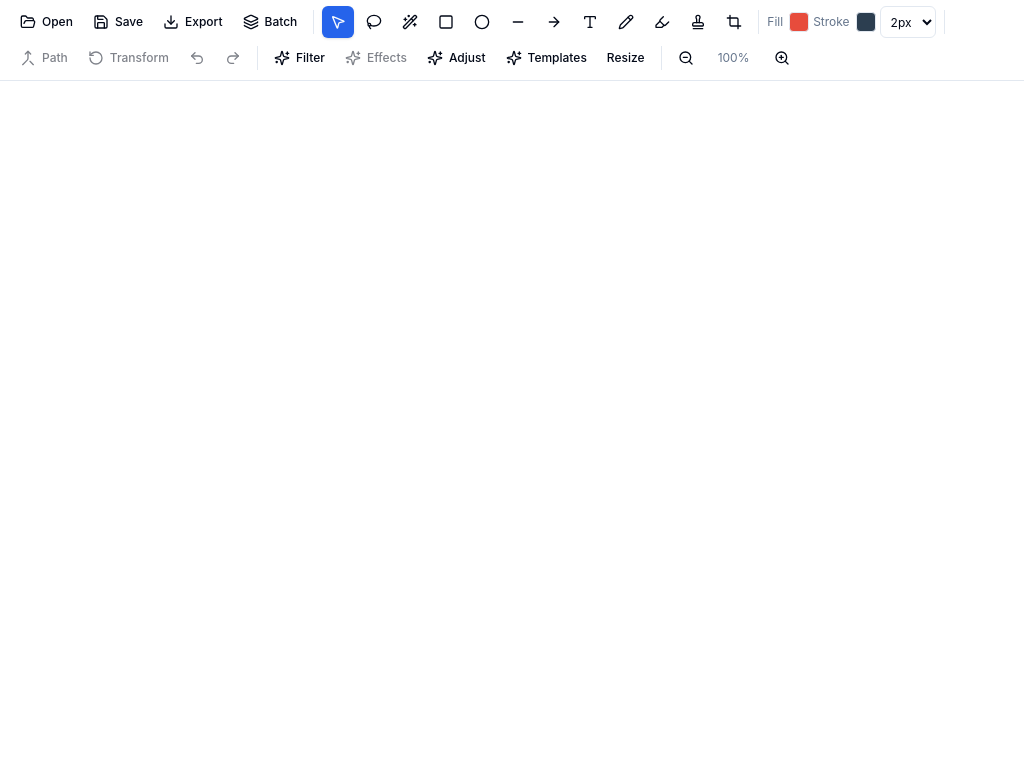
Test: Export dialog › can switch format and cancel closes dialog
Click the button "Export" at (193, 22), box x1=155 y1=6 x2=230 y2=38
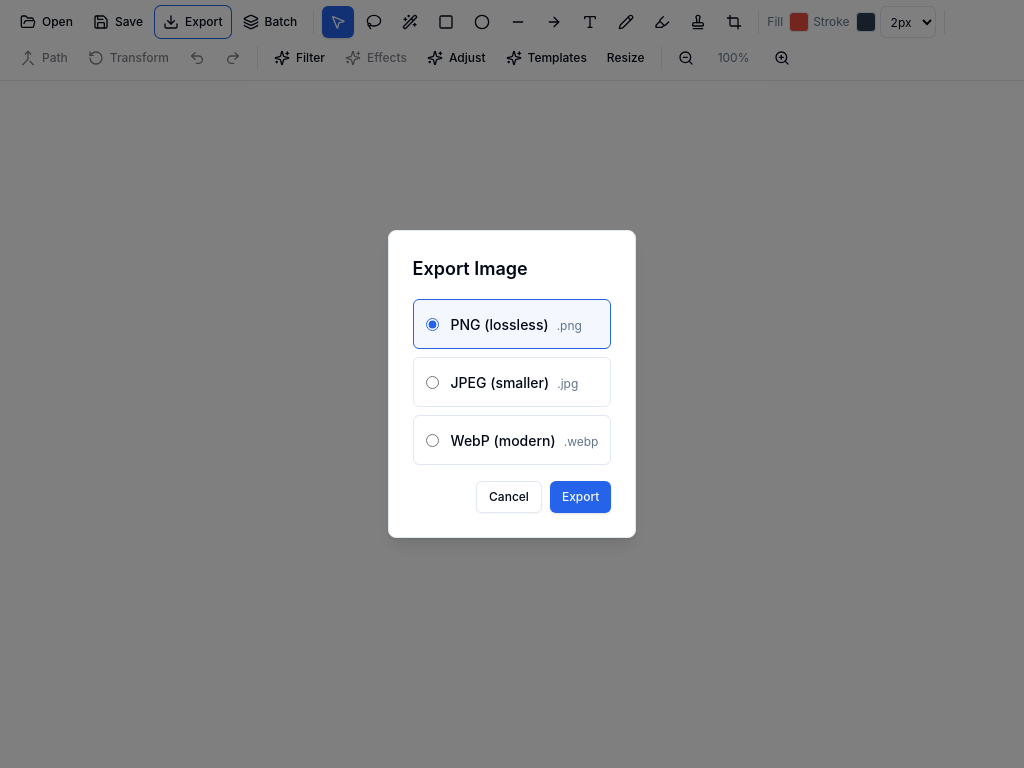
Result: the heading "Export Image" is shown at x1=412 y1=258 x2=528 y2=279
Click the radio button showing "jpeg" at (432, 382), box x1=426 y1=376 x2=438 y2=388
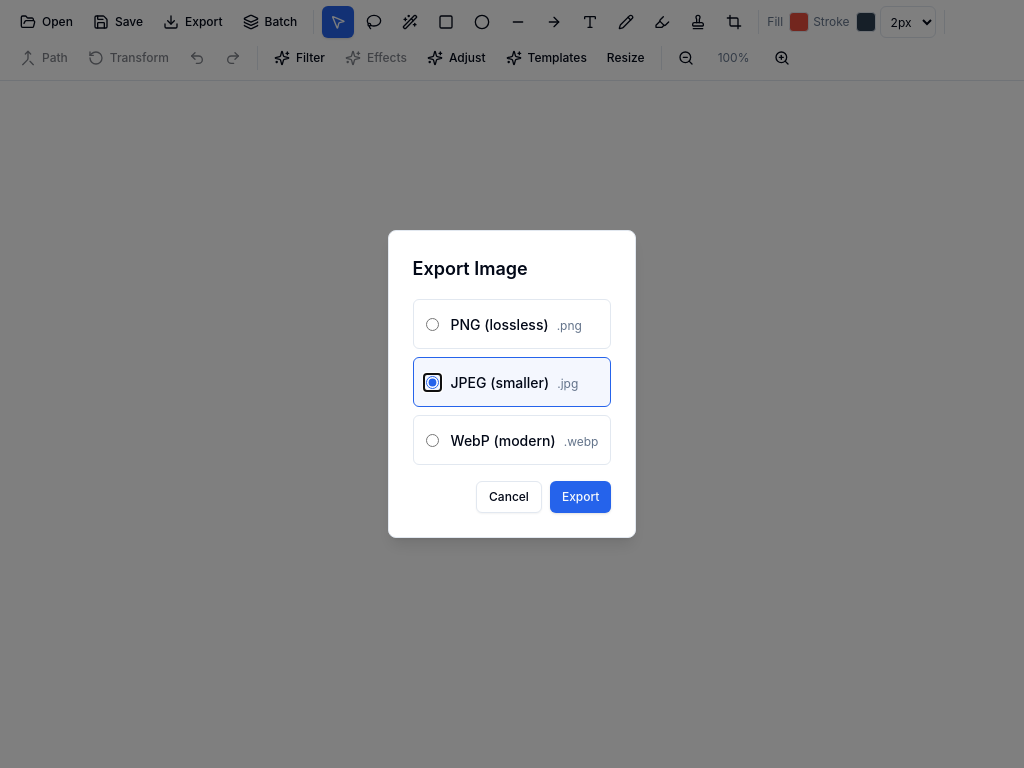
Result: the radio button showing "jpeg" is checked at x1=426 y1=376 x2=438 y2=388
Click the button "Cancel" at (509, 497), box x1=476 y1=481 x2=542 y2=513
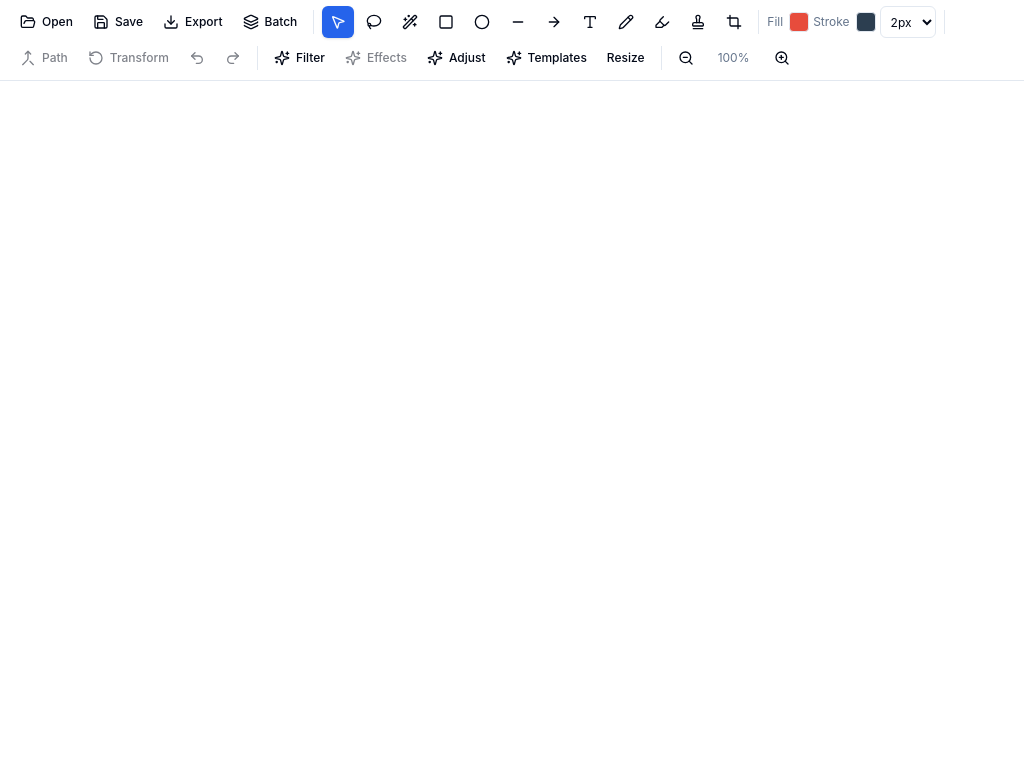
Result: the heading "Export Image" is gone
